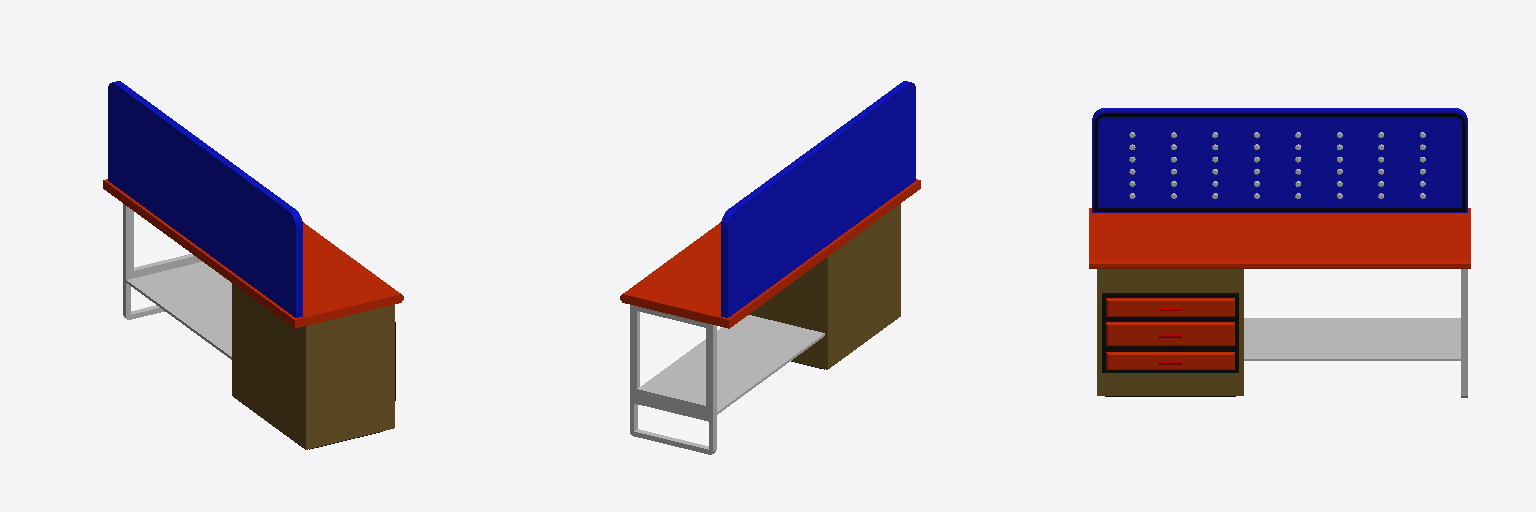
The model's file is Workbench_Table.obj.
3 views of the same model, side by side, from view 1: azimuth 30°, elevation 25°; view 2: azimuth 150°, elevation 25°; view 3: azimuth 270°, elevation 25° (orthographic).
Visible parts, largest first — view 1: Cylinder; view 2: Cylinder; view 3: Cylinder.
Part boxes in pixels (x1,y1,x2,y2): Cylinder: (103, 81, 403, 449); Cylinder: (620, 81, 920, 454); Cylinder: (1089, 108, 1470, 397).
Size of the model in its own units: 2.09 by 4.27 by 6.08.